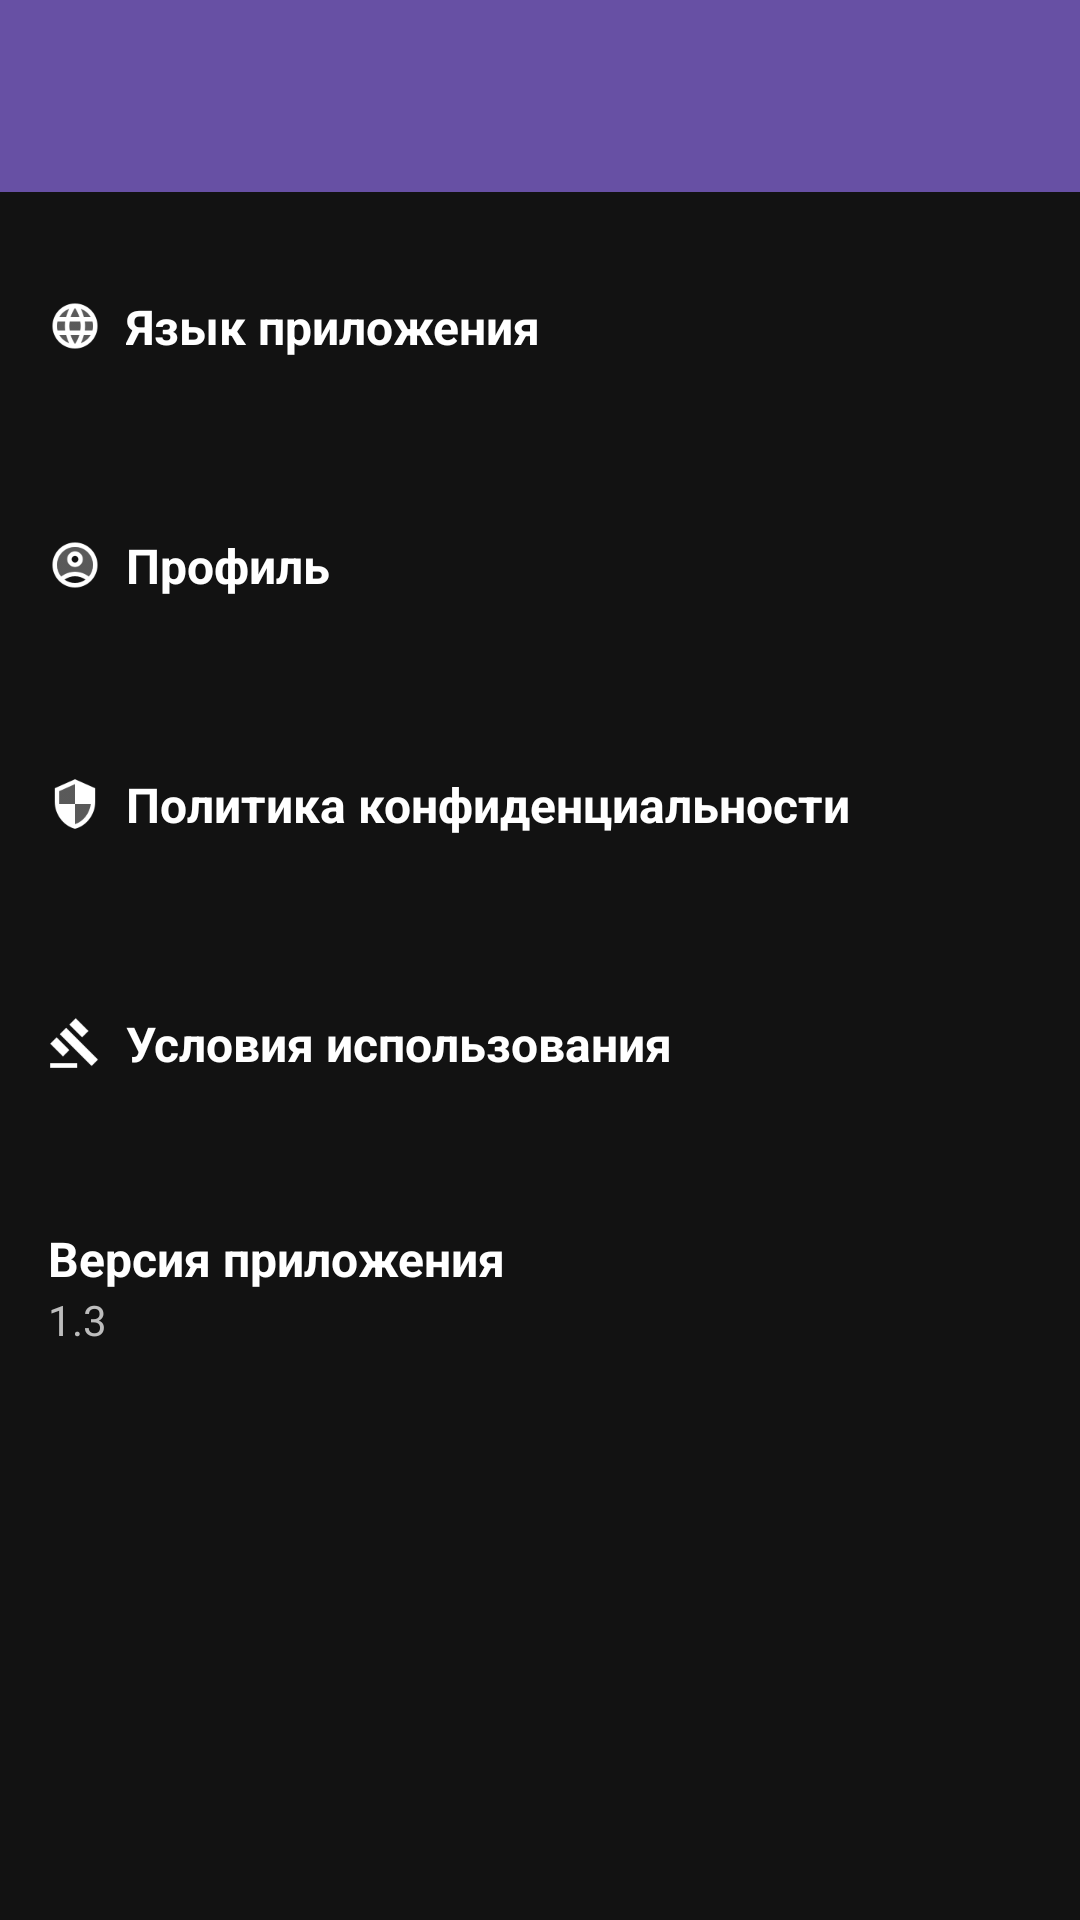

Named icons in this screenshot (1080w x 1920h) and their centers, (x,y):
account circle twotone: (75,565)
gavel twotone: (74,1043)
language twotone: (75,326)
security twotone: (75,804)
